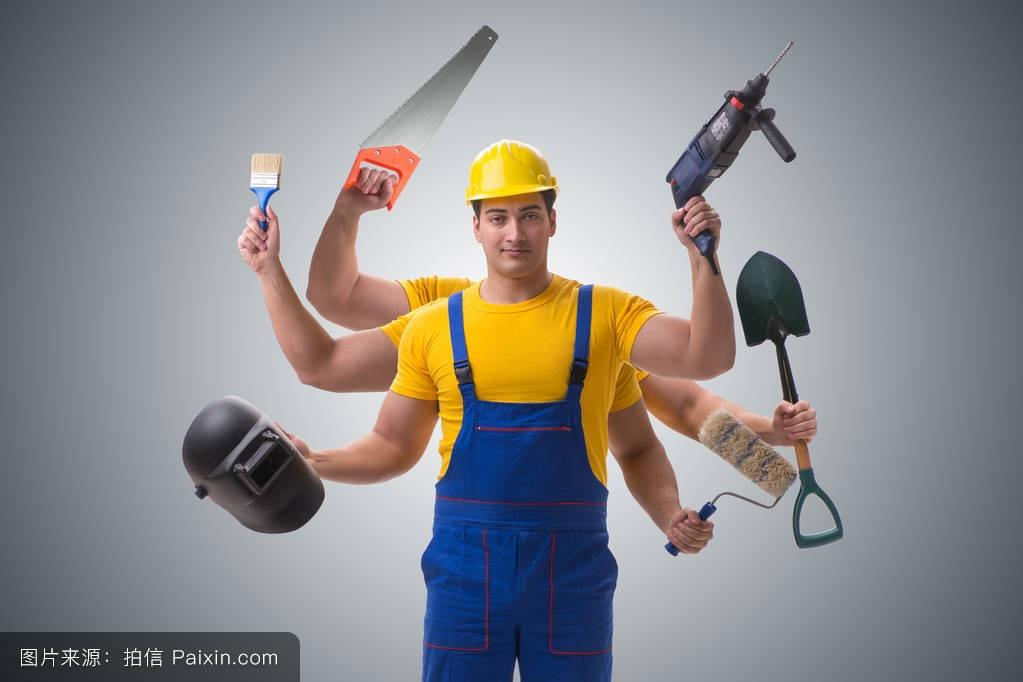Helmet: (467, 138, 558, 273)
NoVest: (426, 278, 618, 555)
